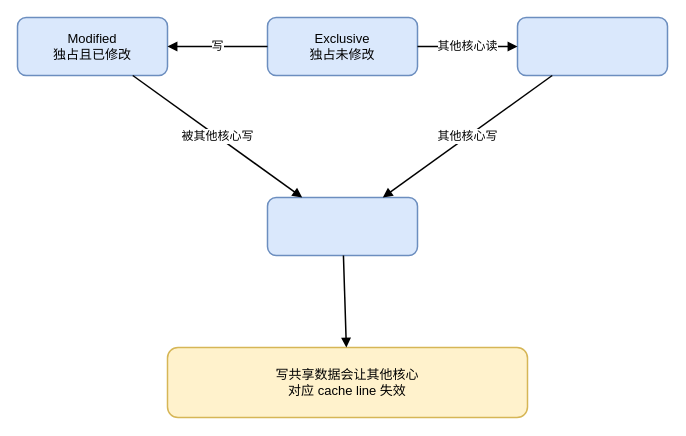
Some shapes in this 686 by 436 pixel diagram are drawn without their labels. Here are the shapes that lost their labels. From the top down, the box of each, then its label:
(516, 16, 668, 76): Shared 多个核心共享
(266, 196, 418, 256): Invalid 缓存行无效
